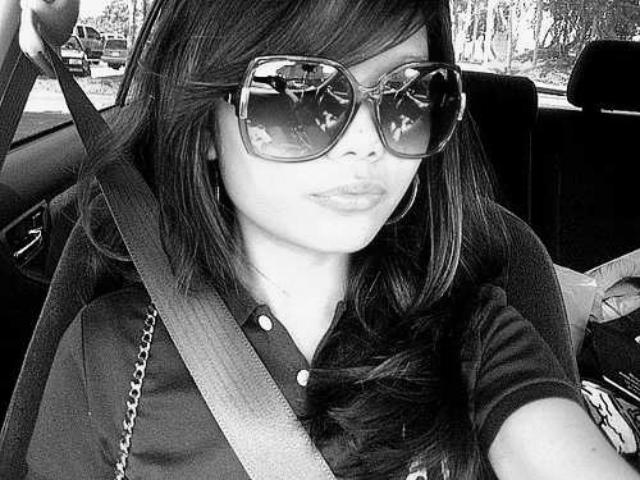Seatbelt: (20, 4, 344, 480)
